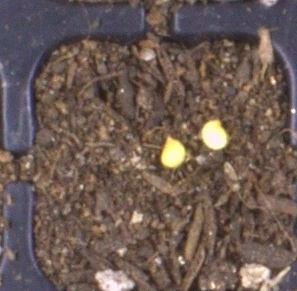chilli seed: (159, 135, 186, 169), (201, 118, 228, 150)
